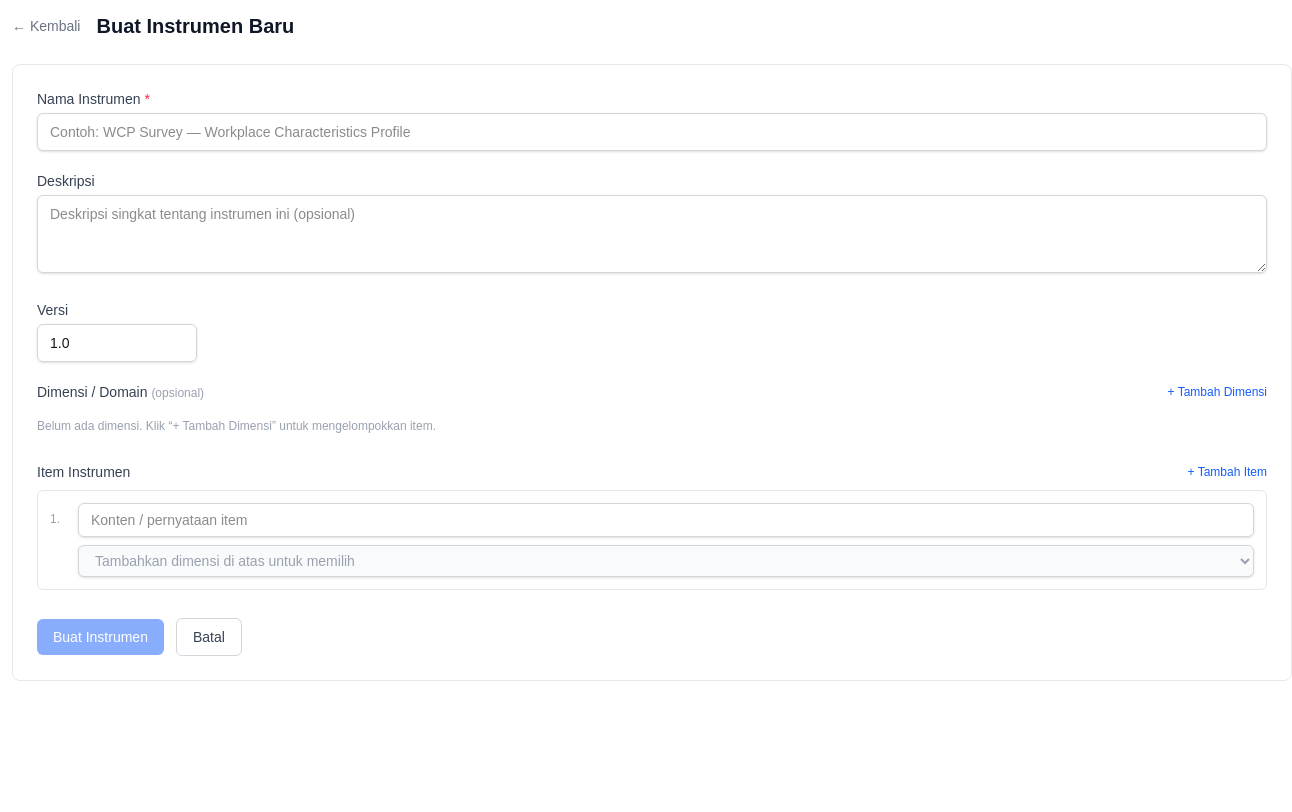
NewInstrumentPage › harus menampilkan error jika pembuatan domain gagal (step 2)
Type "Instrumen #1" into the field labelled "Nama Instrumen *" at (652, 132), box [37,113,1267,151]
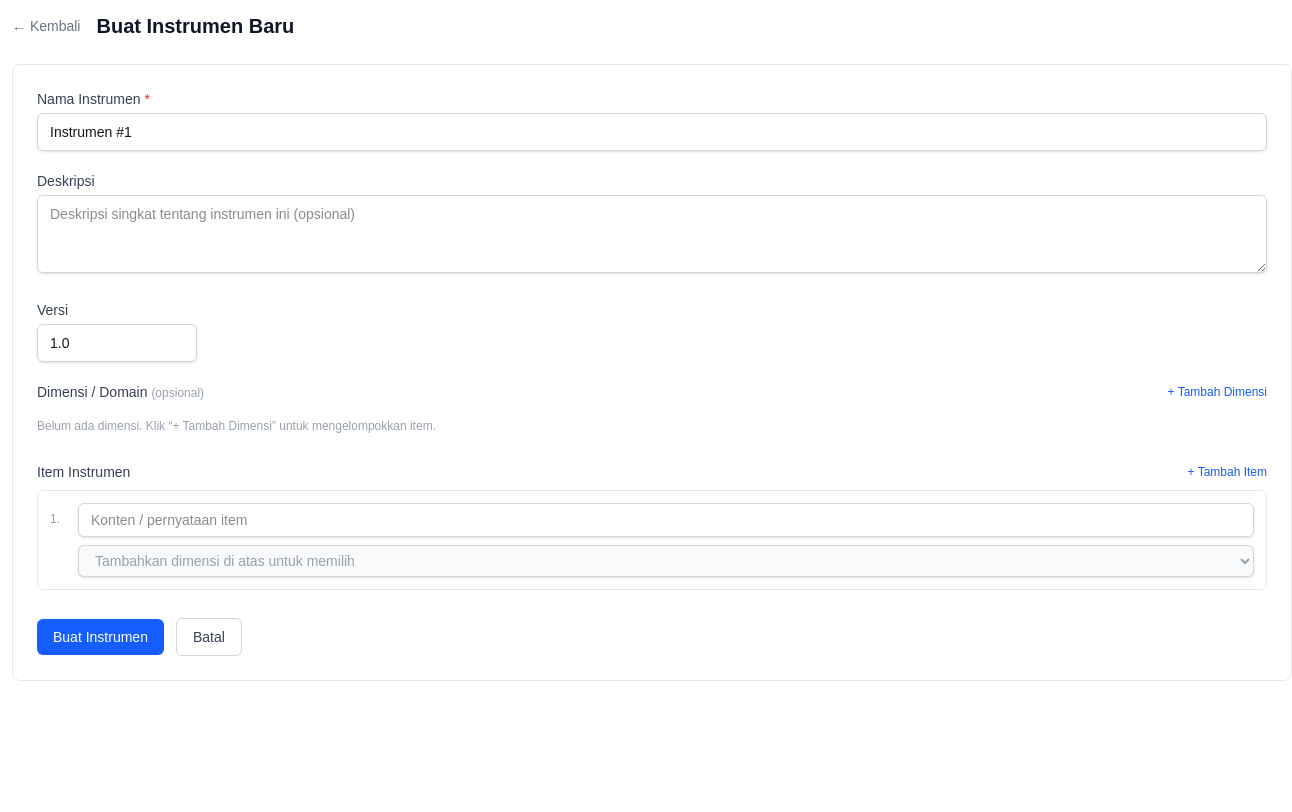
Click the button "+ Tambah Dimensi" at (1217, 392), box [1168,384,1267,400]
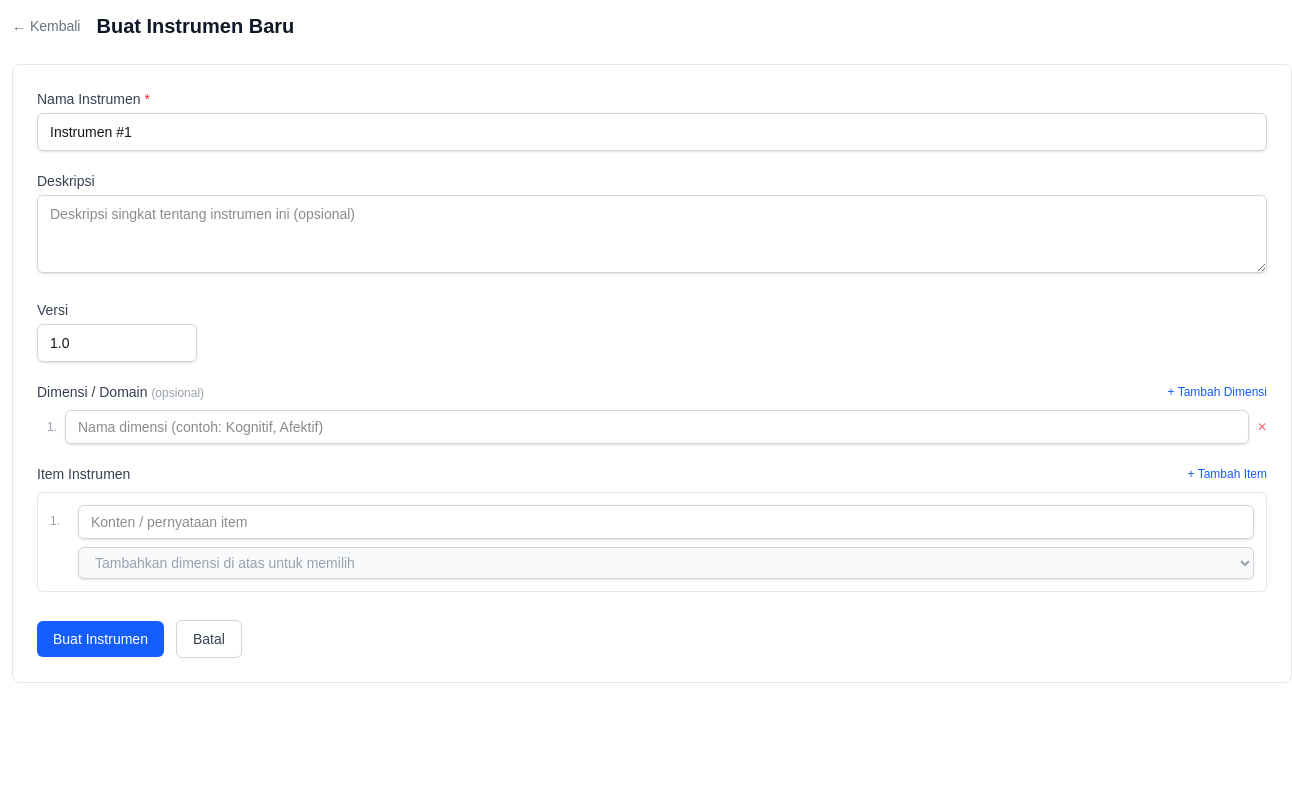
Type "Dimensi #1" into the field with placeholder "Nama dimensi (contoh: Kognitif, Afektif)" at (657, 427), box [65,410,1249,444]
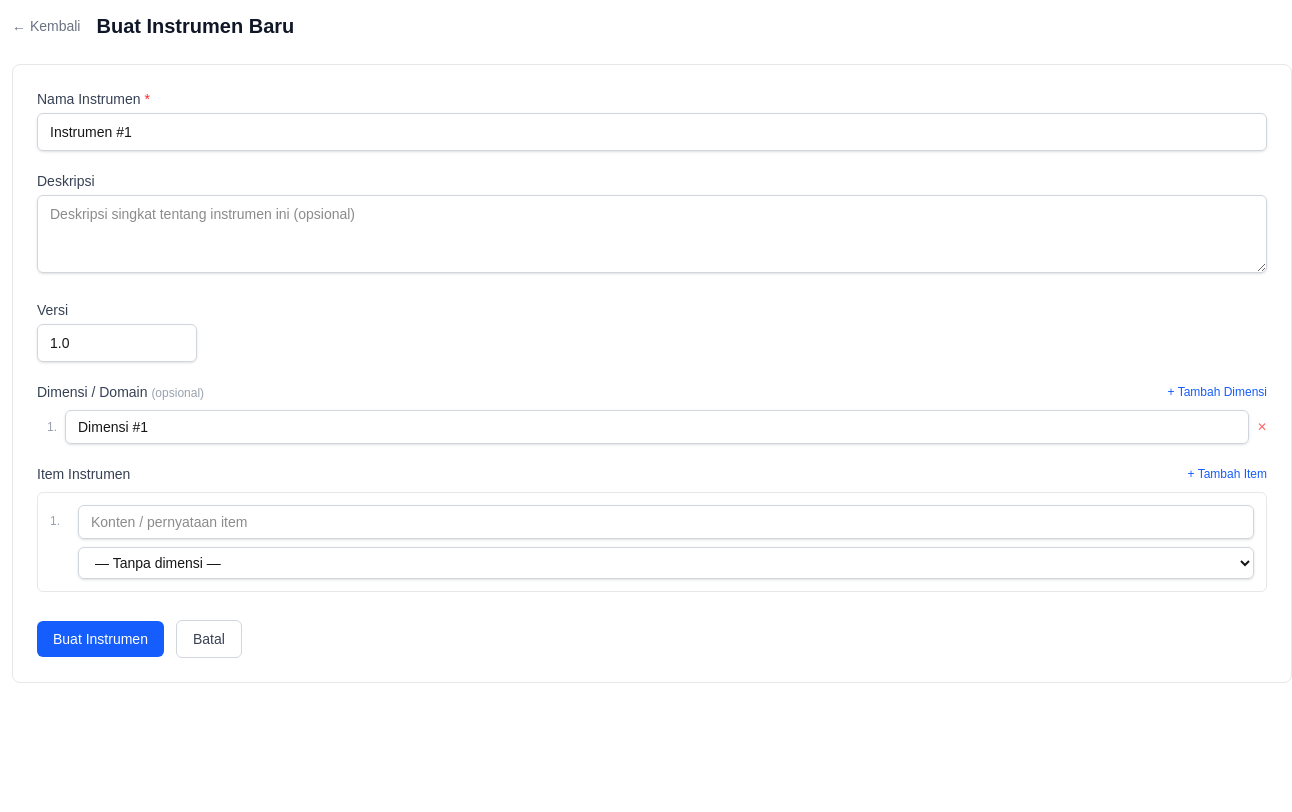
Item dibiarkan kosong
Click the button "Buat Instrumen" at (100, 639), box [37,621,164,657]
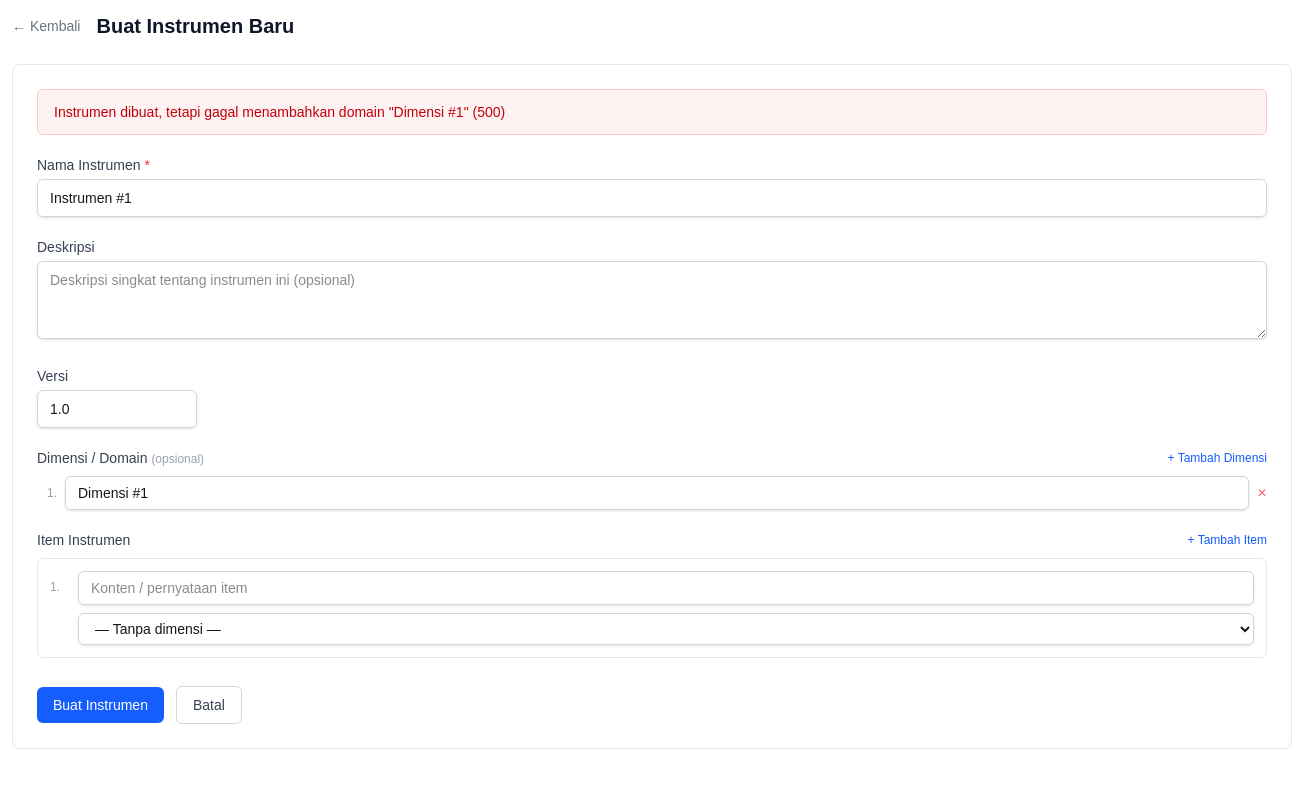
Result: the text "gagal menambahkan domain" is shown at [54,104,505,120]
